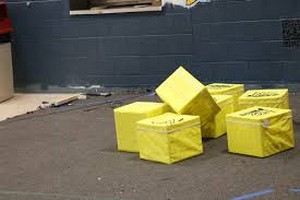cube: (152, 66, 220, 129), (138, 113, 204, 162), (229, 110, 293, 154), (119, 102, 166, 152), (242, 89, 289, 120)
